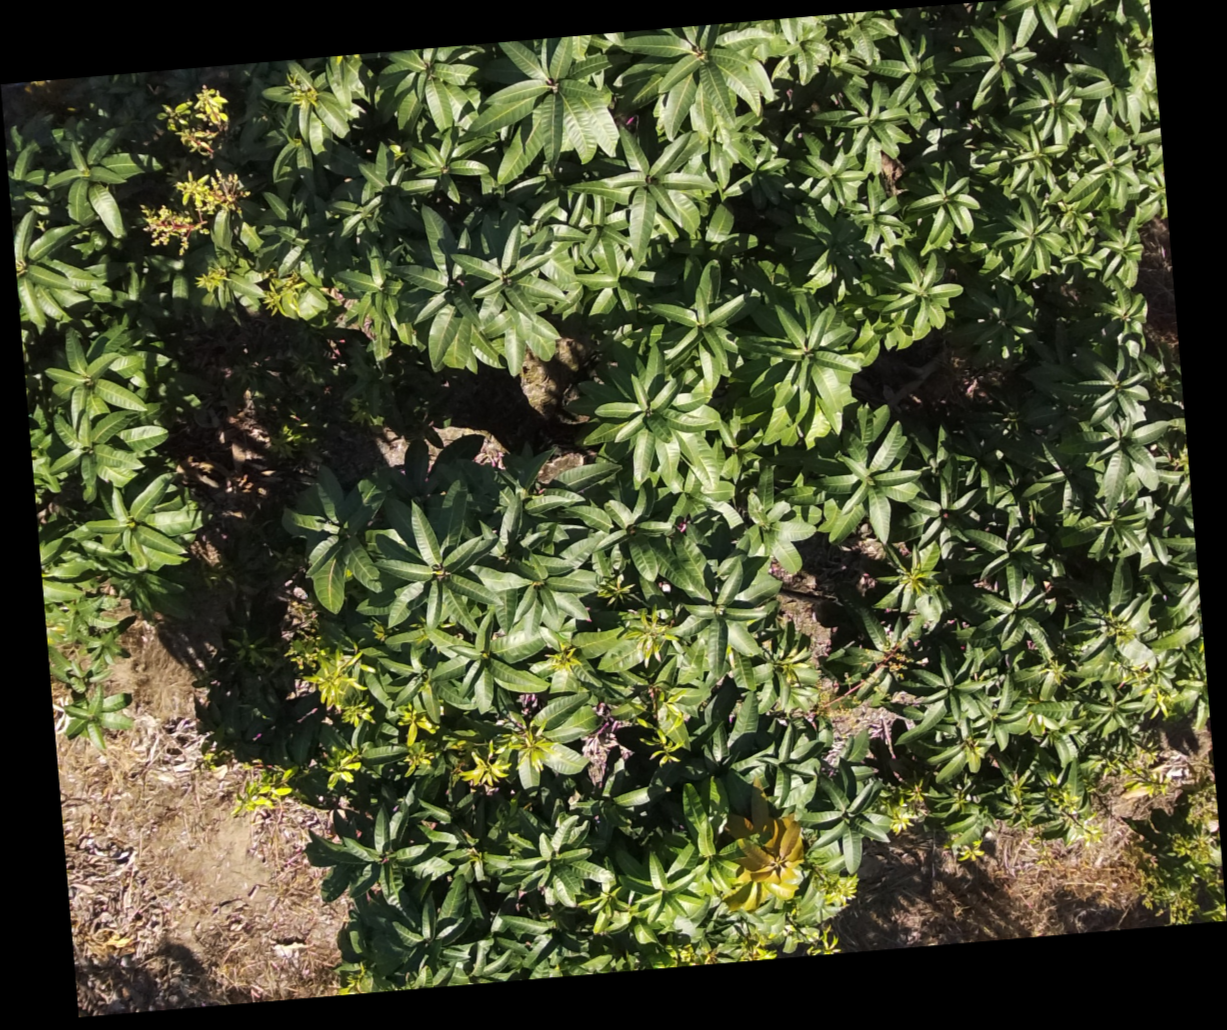flowers: (929, 737, 1170, 845), (141, 171, 249, 251), (456, 717, 555, 786), (306, 648, 371, 725), (158, 87, 228, 157), (1166, 842, 1223, 924), (282, 586, 320, 670), (232, 767, 294, 810), (781, 906, 830, 956), (812, 865, 858, 907), (1186, 778, 1216, 833), (651, 943, 717, 967), (735, 923, 776, 959), (398, 703, 435, 744), (324, 748, 362, 787), (887, 803, 915, 833), (239, 222, 262, 252), (899, 780, 924, 805)
